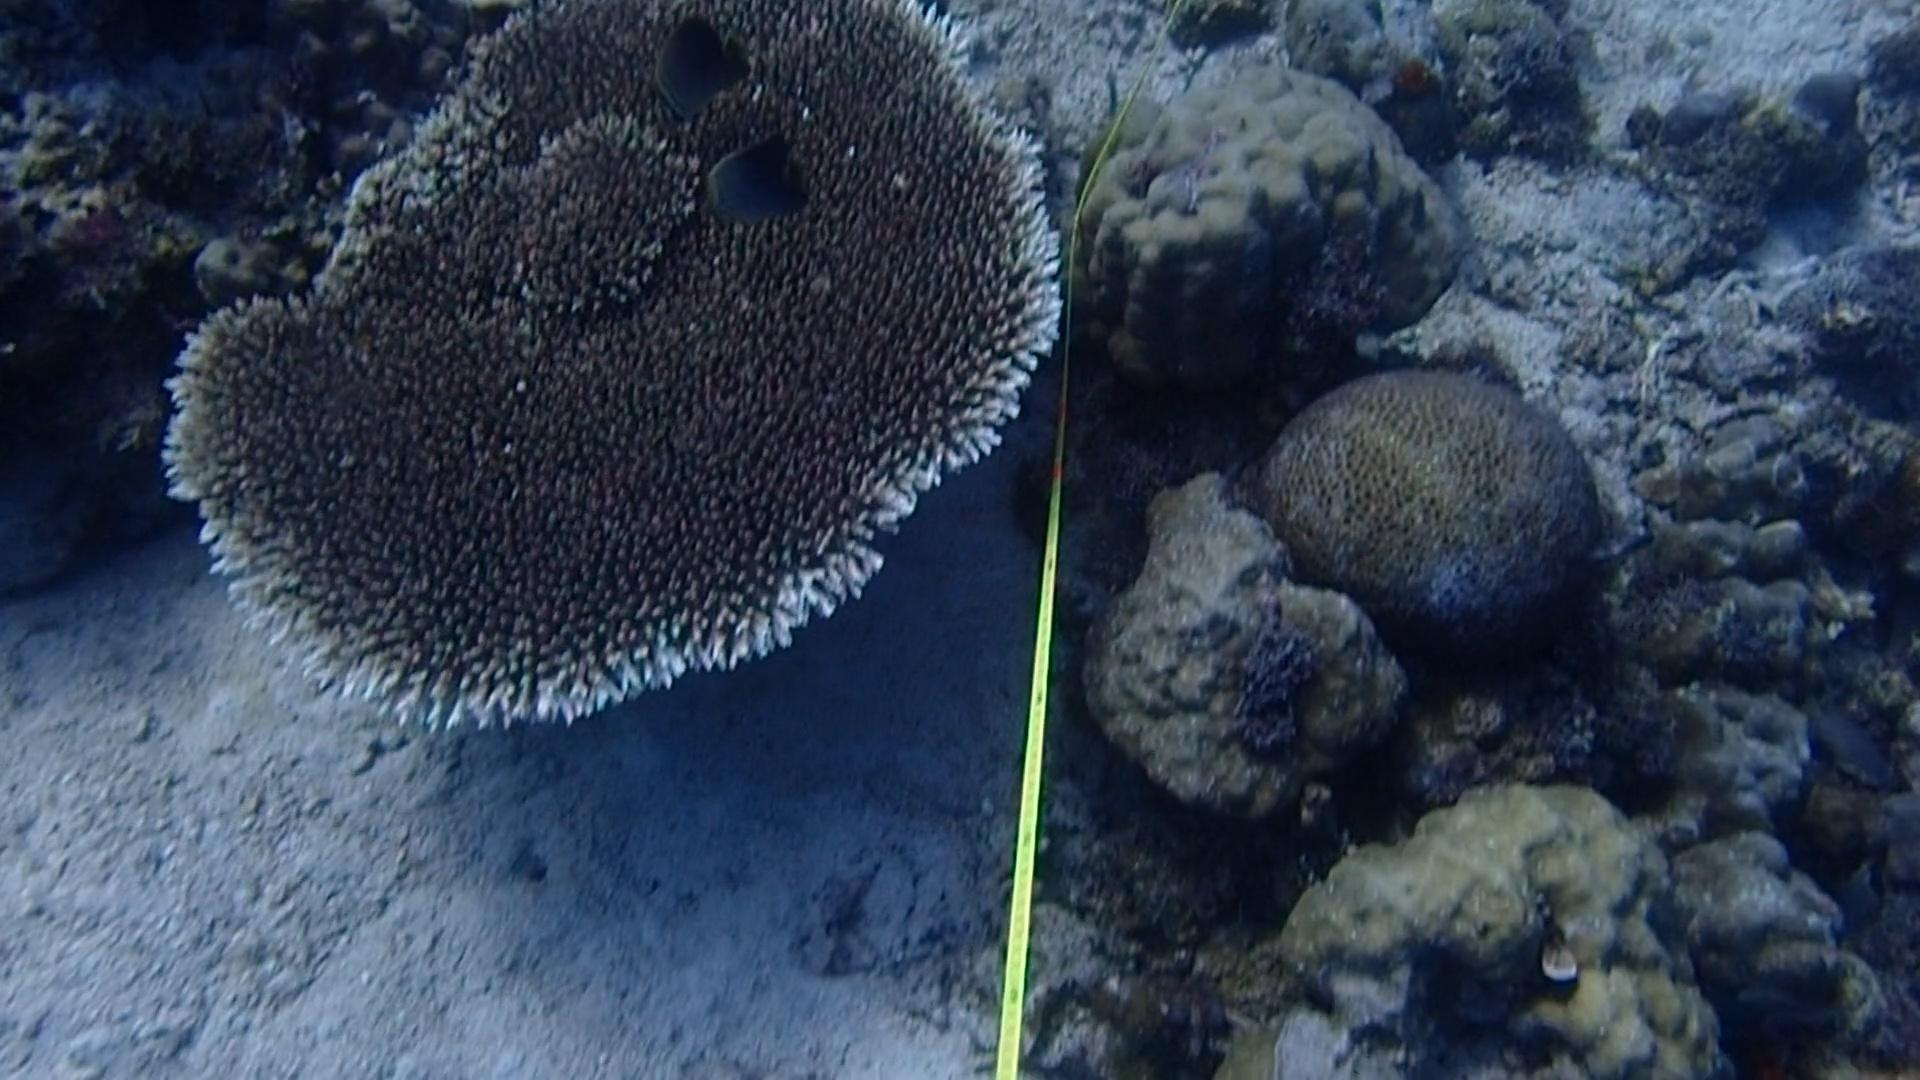Dark Blue Dory: (694, 127, 819, 227), (645, 11, 752, 111)
